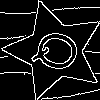Q: (30, 25, 91, 79)
